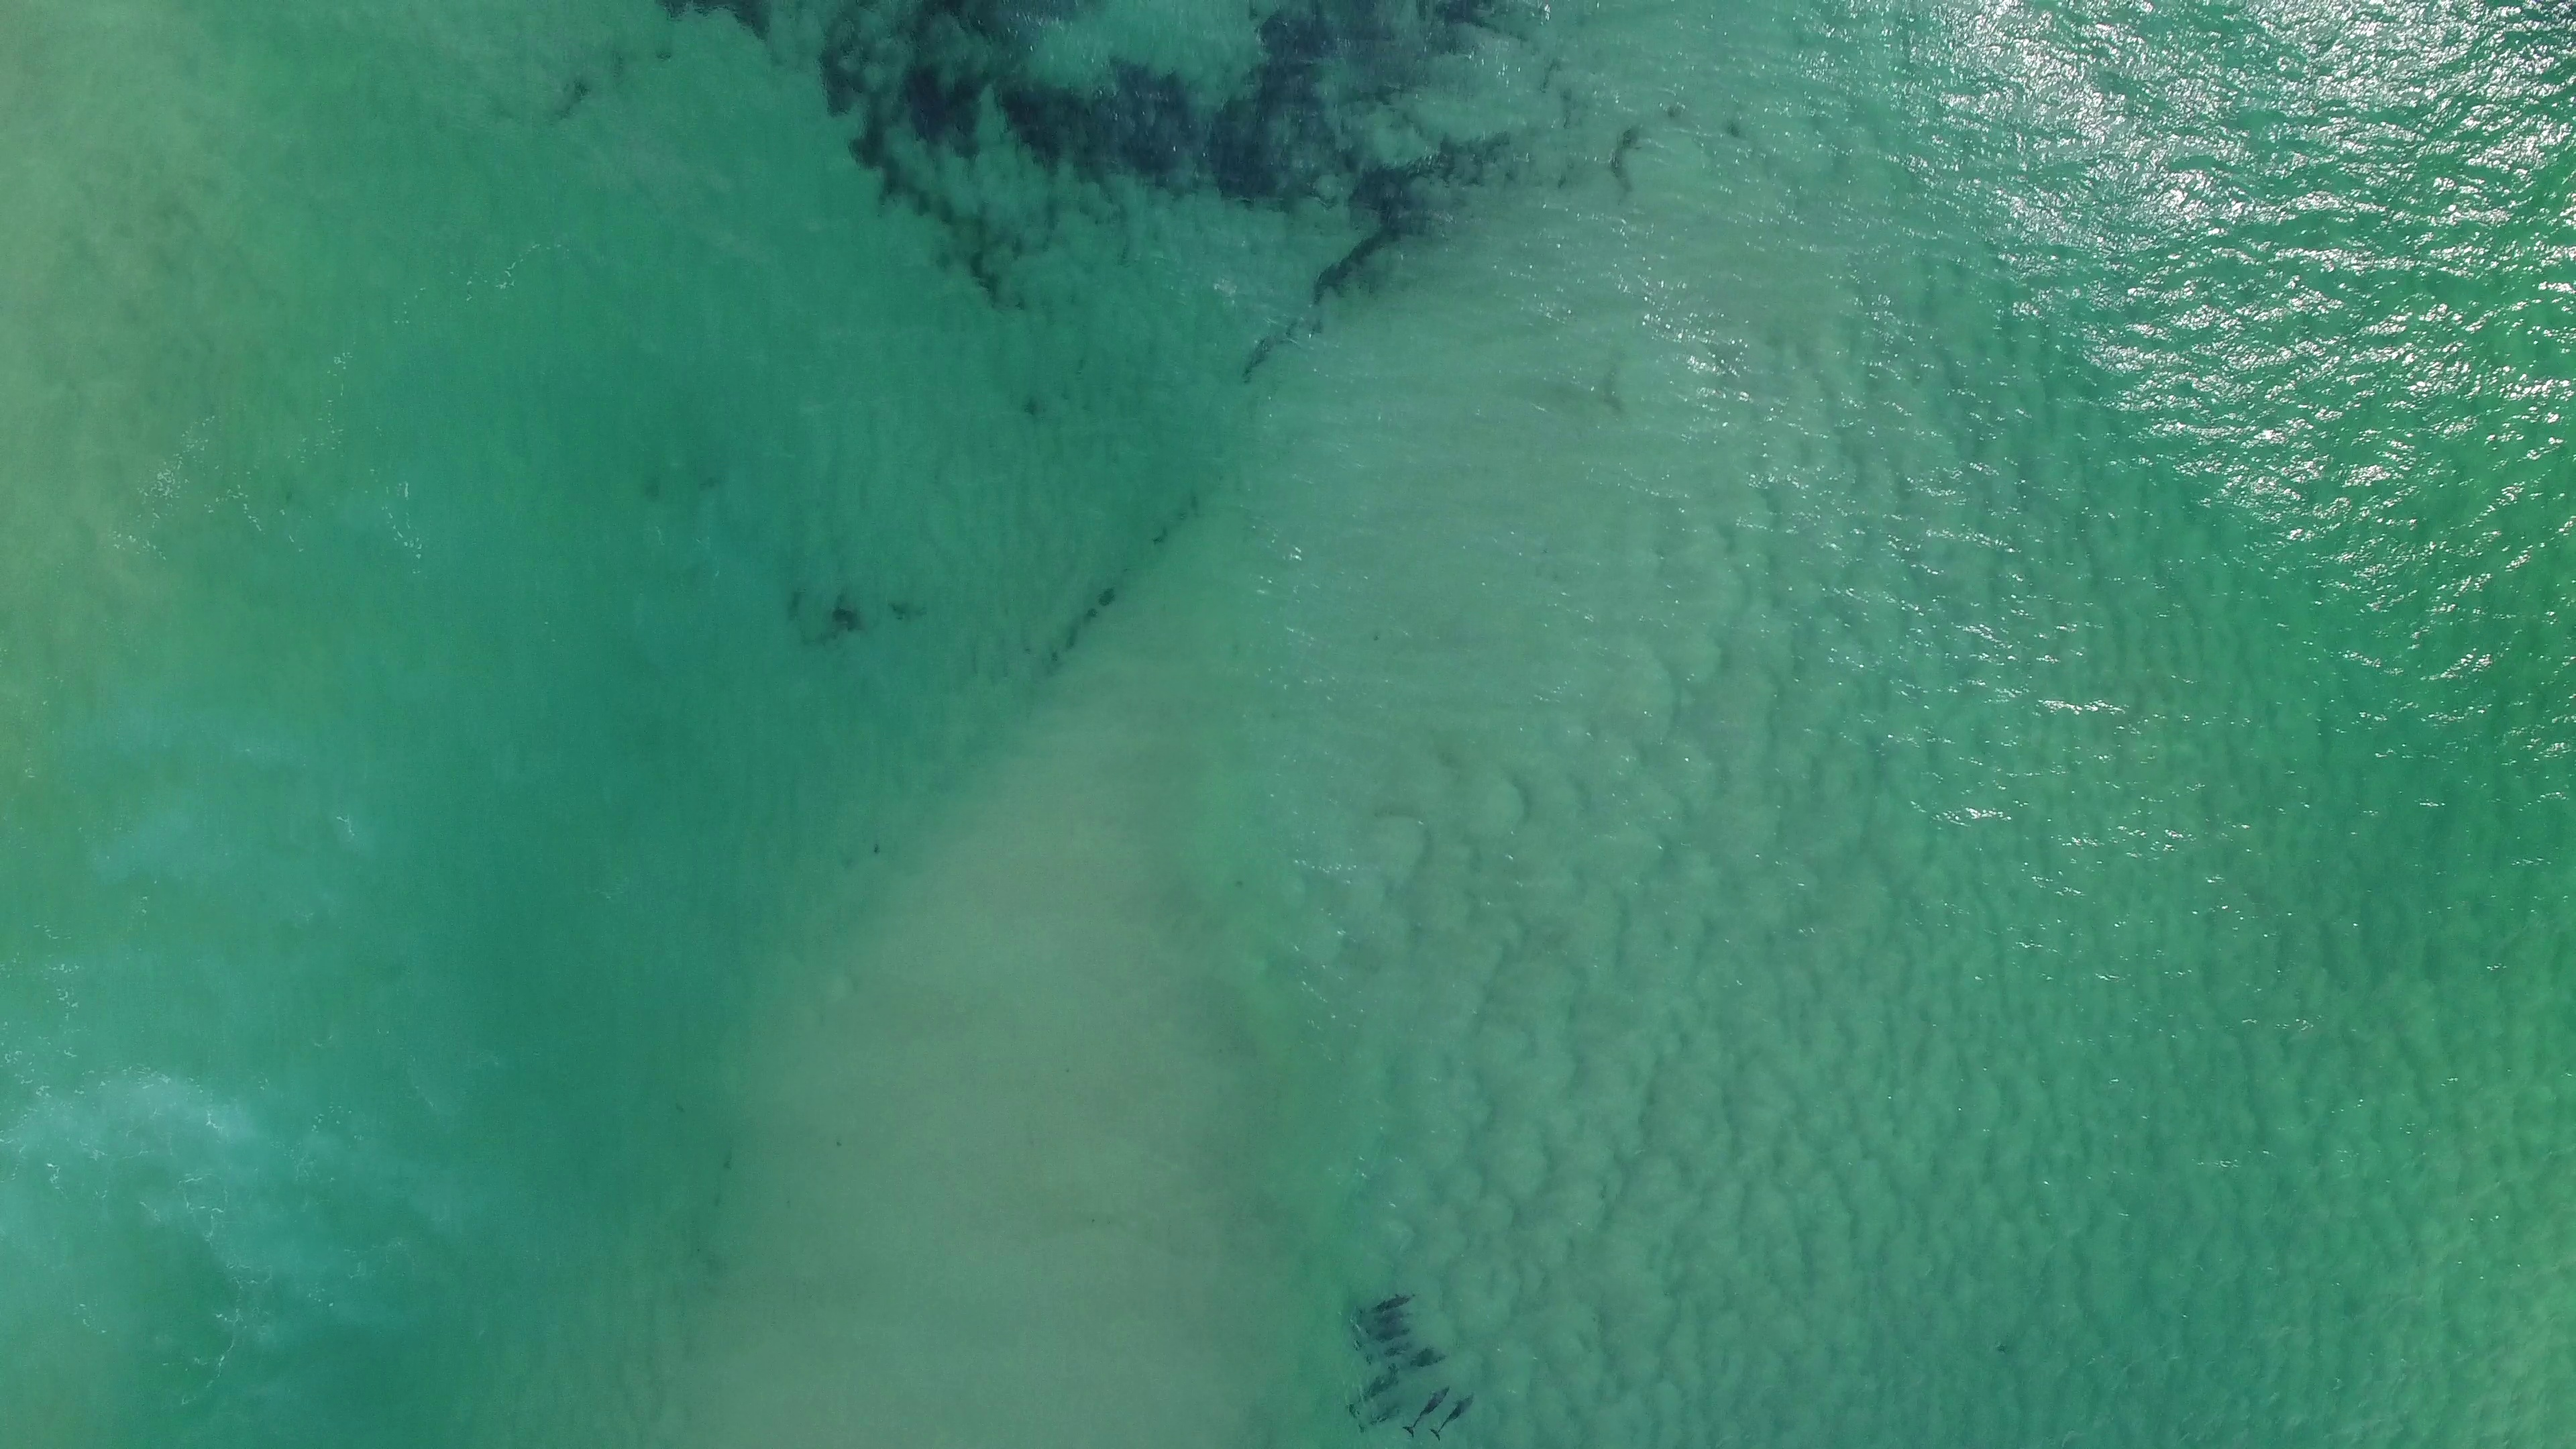dolphin: (1405, 1385, 1453, 1440), (1430, 1391, 1479, 1440), (1346, 1368, 1399, 1414), (1359, 1288, 1419, 1322), (1364, 1338, 1419, 1364), (1361, 1309, 1417, 1334)
